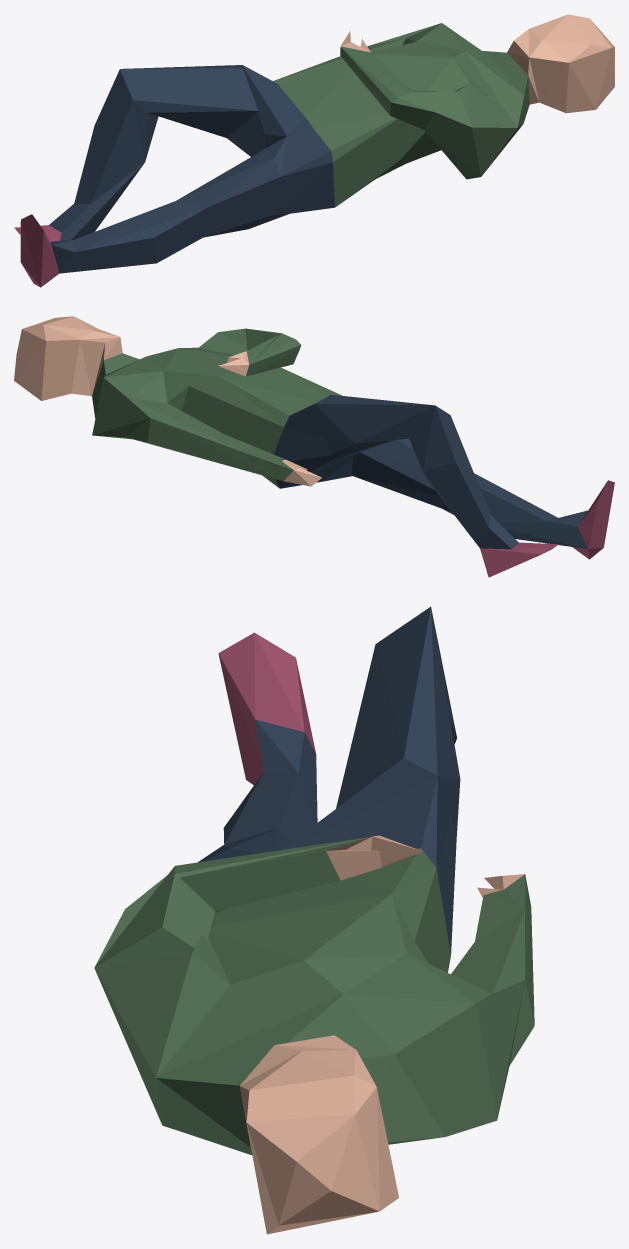
The model's file is man_sleeping.fbx.
The picture shows the model from 3 angles, top to bottom: view 1: azimuth 30°, elevation 25°; view 2: azimuth 150°, elevation 25°; view 3: azimuth 270°, elevation 25°; orthographic projection. The views are drawn at different scales.
Visible parts, largest first — view 1: Man Sleeping; view 2: Man Sleeping; view 3: Man Sleeping.
Boxes of the visible parts, bbox=[...] form: Man Sleeping: bbox=[14, 14, 614, 287]; Man Sleeping: bbox=[14, 316, 614, 577]; Man Sleeping: bbox=[94, 606, 534, 1234].
Size of the model in its own units: 547 by 146 by 182.
